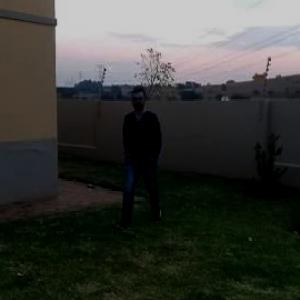follow: (118, 86, 162, 215)
